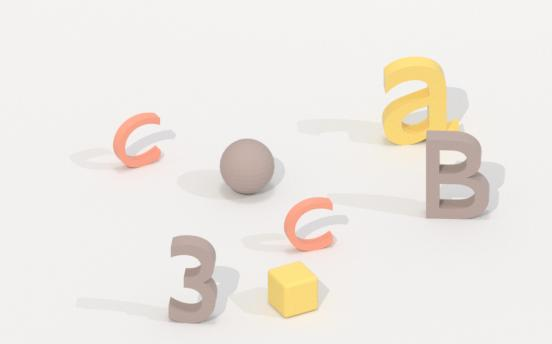3: (162, 233, 223, 327)
a: (377, 54, 465, 147)
b: (422, 129, 496, 221)
c: (282, 196, 340, 253), (109, 112, 166, 169)
cau: (217, 136, 279, 197)
hop: (264, 261, 324, 321)
